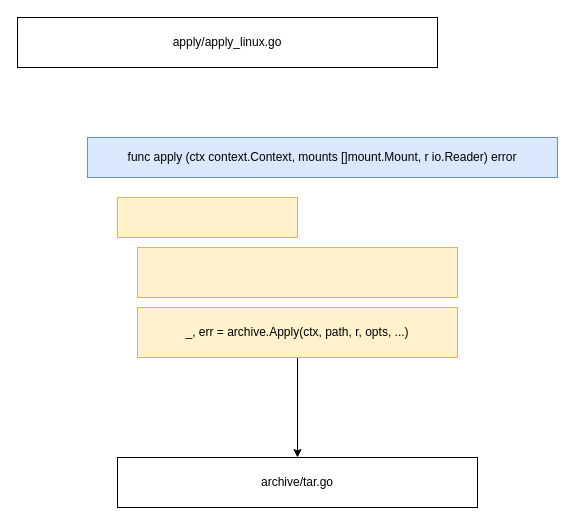
Image size: 575x525. Some labels were removed from this diagram. The centre of each missing label's shape, as x and y in pixels:
"mountfs == 'overlay':" goes at point 207,217.
"path, parents, err := getOverlayPath(mounts[0].Options)" goes at point 297,272.
